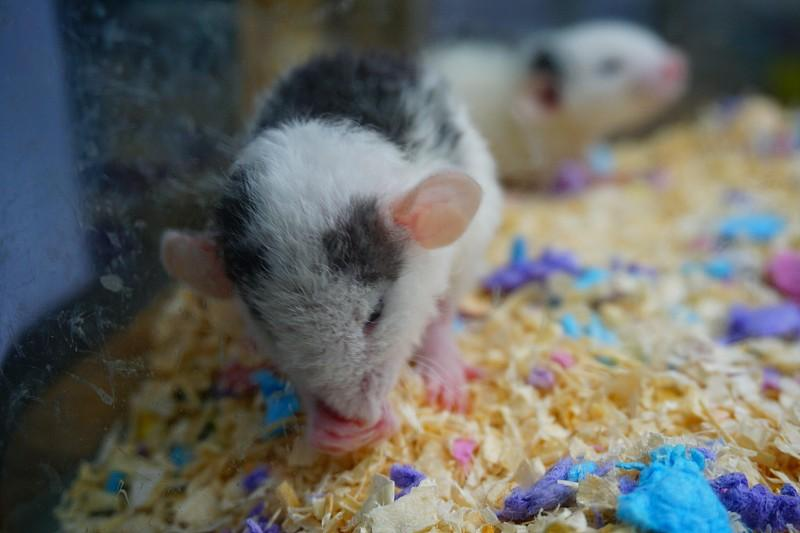rat: (155, 22, 493, 455)
